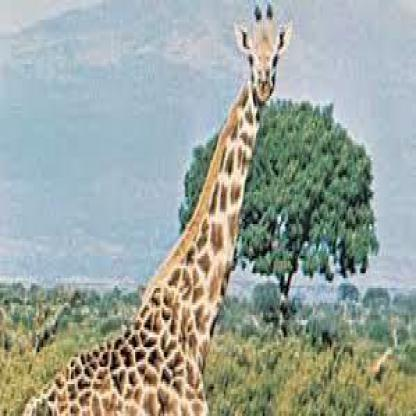giraffe: (20, 0, 294, 415)
